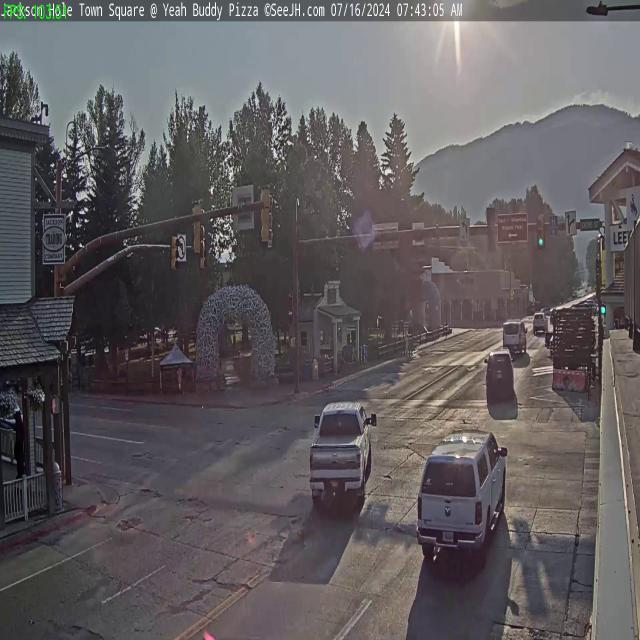pickup: (306, 397, 376, 508)
suv: (486, 350, 514, 400)
traffic light: (190, 199, 203, 257), (260, 184, 272, 244), (486, 207, 497, 252), (170, 233, 180, 272), (536, 214, 546, 248), (202, 234, 210, 271)
truck: (412, 432, 512, 566)
van: (501, 318, 527, 353)
